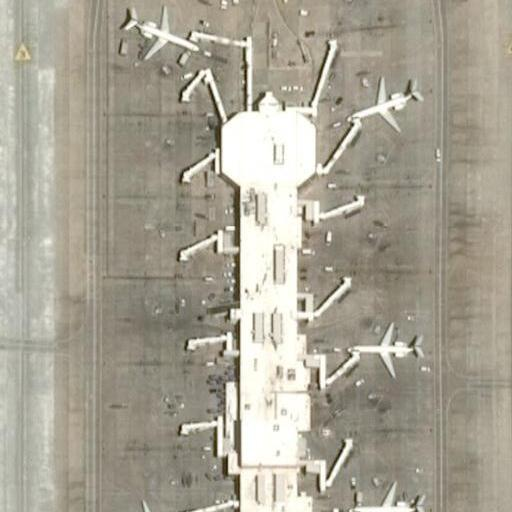Aircraft: (336, 67, 426, 134), (338, 314, 425, 382), (115, 0, 200, 63), (346, 477, 427, 512), (106, 493, 187, 512)
